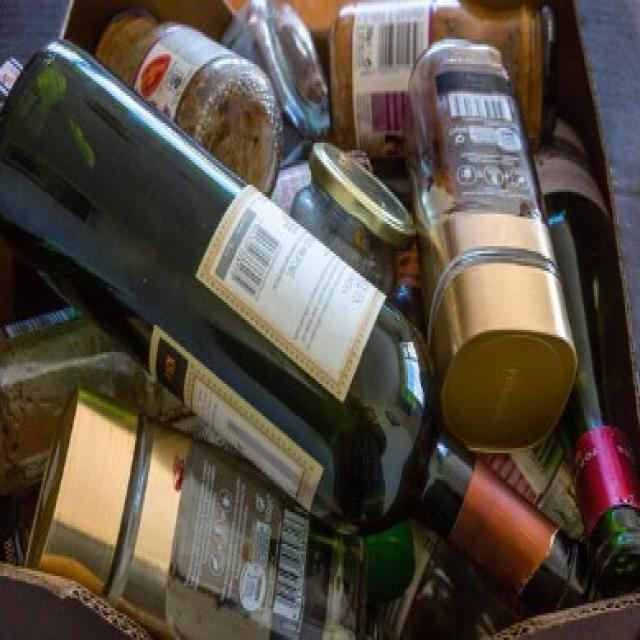electronic: (0, 34, 637, 640)
